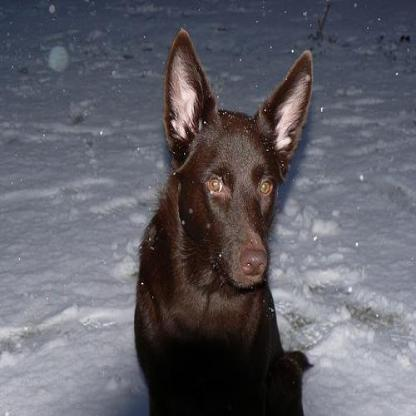kelpie: (132, 21, 314, 414)
